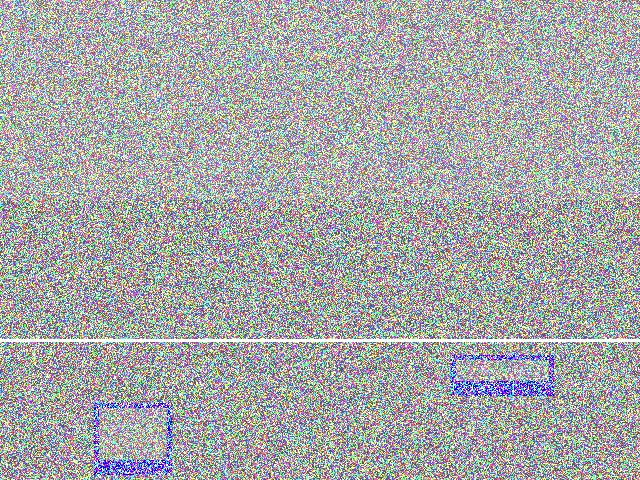car: (146, 241, 294, 316)
